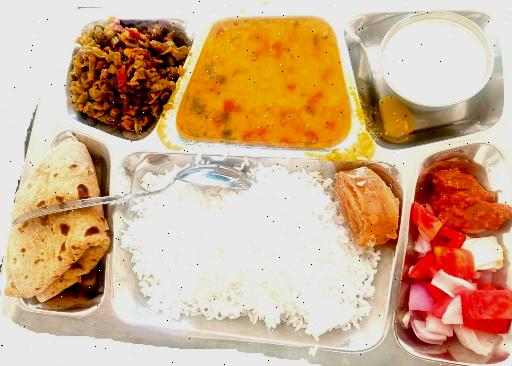Curd: (371, 11, 506, 117)
Dal: (186, 18, 340, 145)
Pickle: (431, 153, 512, 229)
Rice: (114, 165, 400, 316)
Roti: (3, 142, 108, 310)
Salad: (404, 237, 508, 353)
Sweet: (336, 164, 408, 248)
Vegetable: (63, 16, 175, 129)
